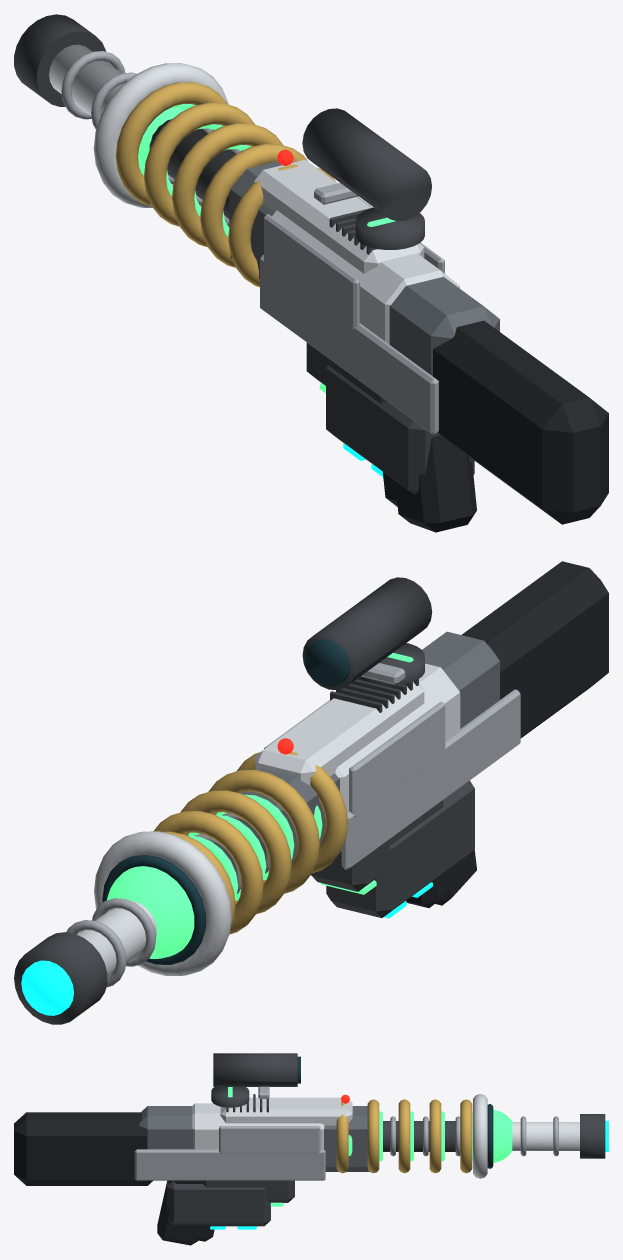
The model's file is weapons.glb.
3 views of the same model, one above another, from view 1: azimuth 30°, elevation 25°; view 2: azimuth 150°, elevation 25°; view 3: azimuth 270°, elevation 25° (orthographic). The views are drawn at different scales.
Visible parts, largest first — view 1: Rifle, ShrinkRay, Pistol; view 2: Rifle, ShrinkRay, Pistol; view 3: Rifle, ShrinkRay, Pistol.
Boxes of the visible parts, x1=… form: Rifle: x1=14, y1=14, x2=608, y2=532; ShrinkRay: x1=93, y1=63, x2=459, y2=506; Pistol: x1=254, y1=149, x2=424, y2=273; Rifle: x1=14, y1=561, x2=608, y2=1024; ShrinkRay: x1=94, y1=643, x2=460, y2=975; Pistol: x1=254, y1=677, x2=424, y2=785; Rifle: x1=14, y1=1053, x2=608, y2=1245; ShrinkRay: x1=178, y1=1087, x2=512, y2=1241; Pistol: x1=220, y1=1094, x2=352, y2=1125.
Size of the model in its own units: 0.152 by 0.366 by 1.06.
